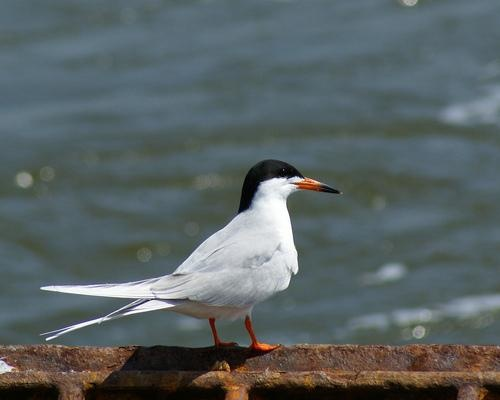bird: (34, 159, 346, 353)
